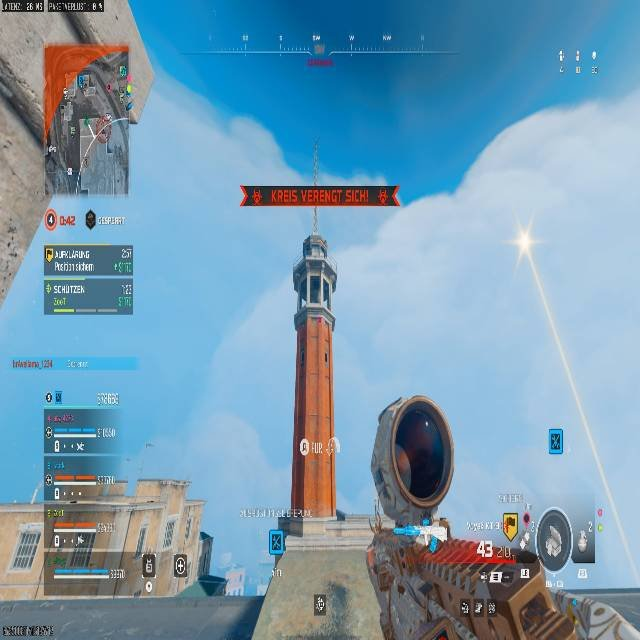head: (384, 397, 454, 498)
player: (366, 395, 637, 638), (264, 526, 287, 568)
